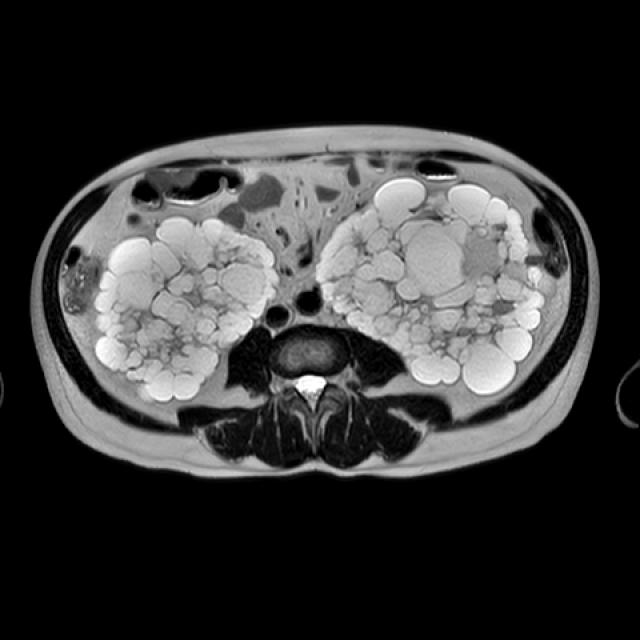sag: (94, 216, 281, 404)
sol: (314, 177, 549, 398)
